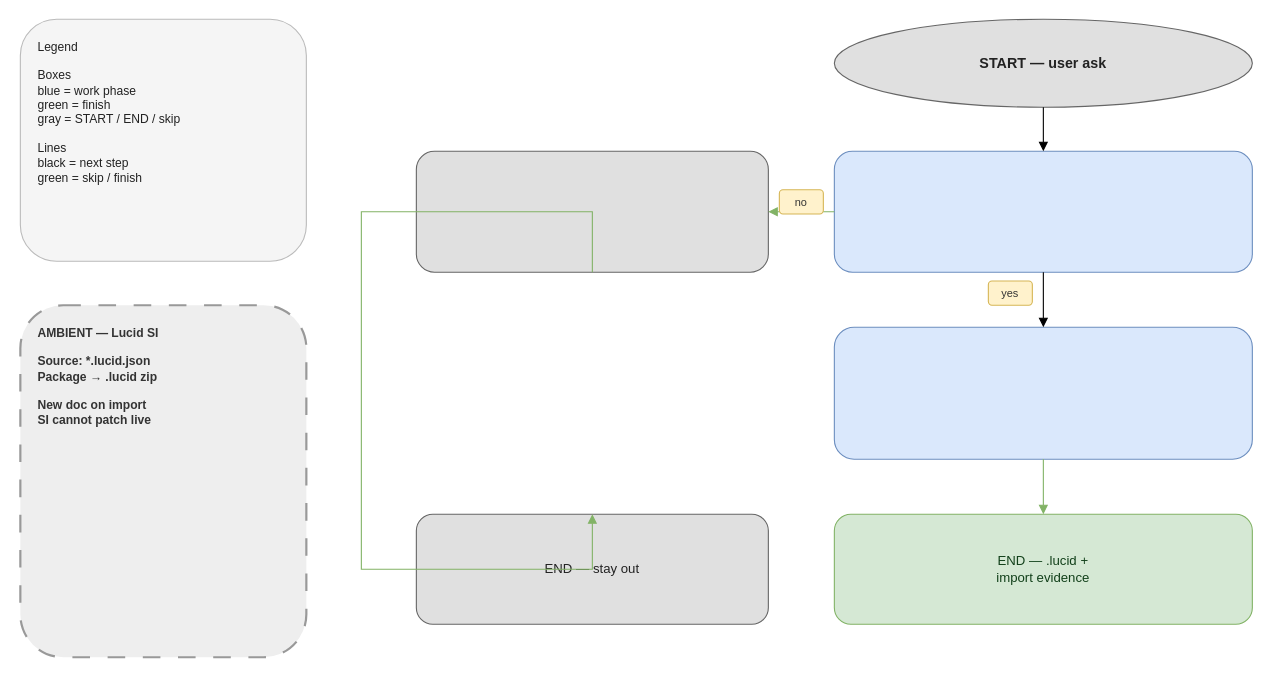
Some shapes in this 1272 by 678 pixel diagram are drawn without their labels. Here are the shapes that lost their labels. From the top down, the centre of each, then its label:
[591,211]: skip — no Lucid ordinary coding
[1042,211]: gate · Lucid work? author / repair / package or named *.lucid.json
[1042,392]: author / repair SI then package_lucid.py; create new Lucid doc
